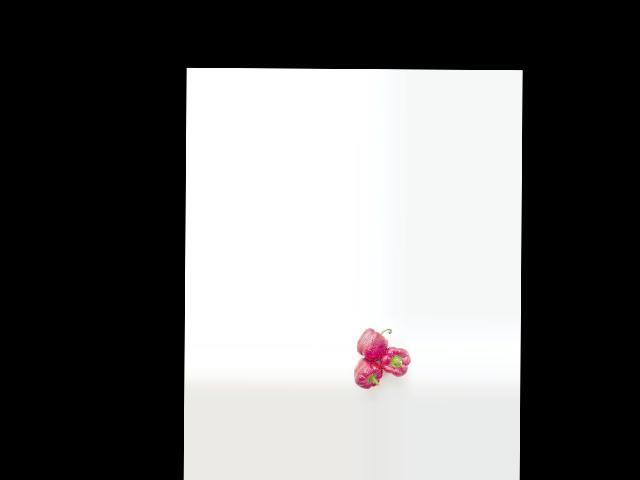bell_pepper: (355, 320, 393, 358)
